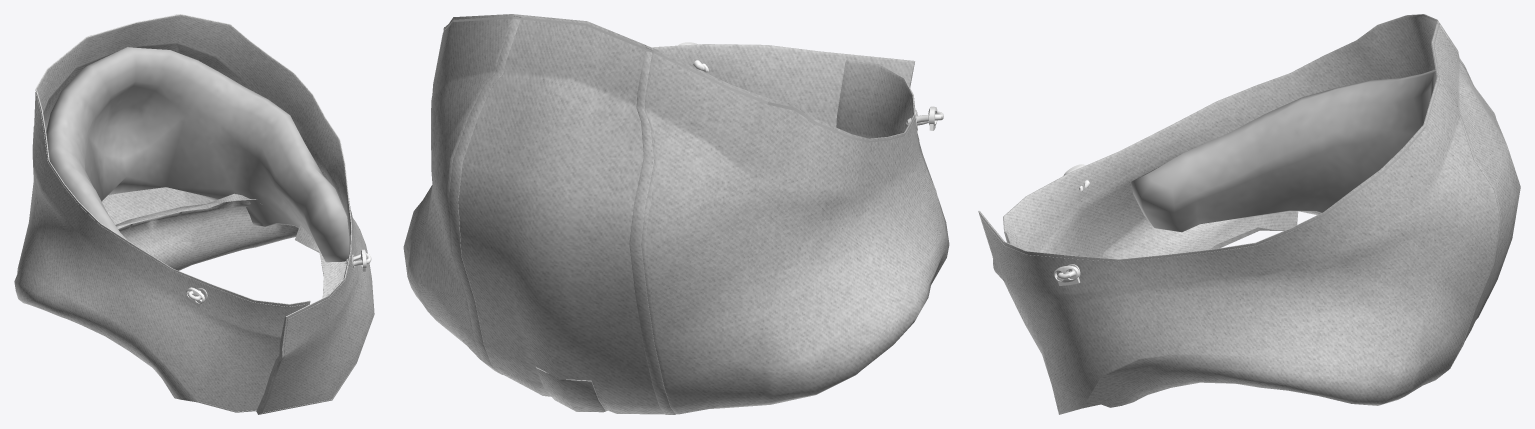
File: Hood1.glb
3 views of the same model, side by side, from view 1: azimuth 30°, elevation 25°; view 2: azimuth 150°, elevation 25°; view 3: azimuth 270°, elevation 25° (orthographic). The views are drawn at different scales.
Parts seen in each view (by area): view 1: Hood1, Decor_Hood1, Rope1, Band1; view 2: Hood1, Rope1, Band1; view 3: Hood1, Decor_Hood1, Rope1, Band1.
Boxes of the visible parts, x1,y1,x2,y2 form: Hood1: (14, 14, 374, 414); Decor_Hood1: (46, 47, 349, 262); Rope1: (37, 96, 356, 413); Band1: (186, 249, 371, 307); Hood1: (403, 14, 949, 414); Rope1: (443, 16, 914, 142); Band1: (678, 42, 943, 130); Hood1: (978, 14, 1520, 414); Decor_Hood1: (1131, 69, 1436, 232); Rope1: (980, 22, 1439, 412); Band1: (1053, 164, 1089, 285).
Bounding box in the file's own units: 0.4714 × 0.3918 × 0.5584.
Materials: 5 (5 with a texture image).
